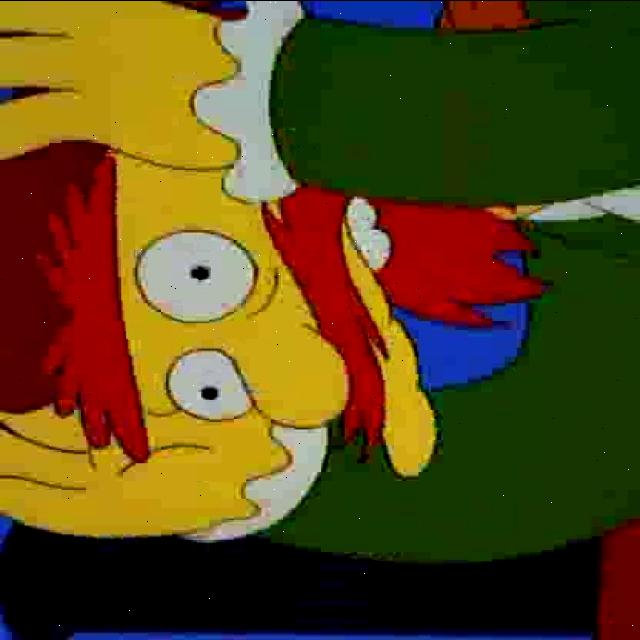Groundskeeper Willie: (0, 0, 562, 480)
